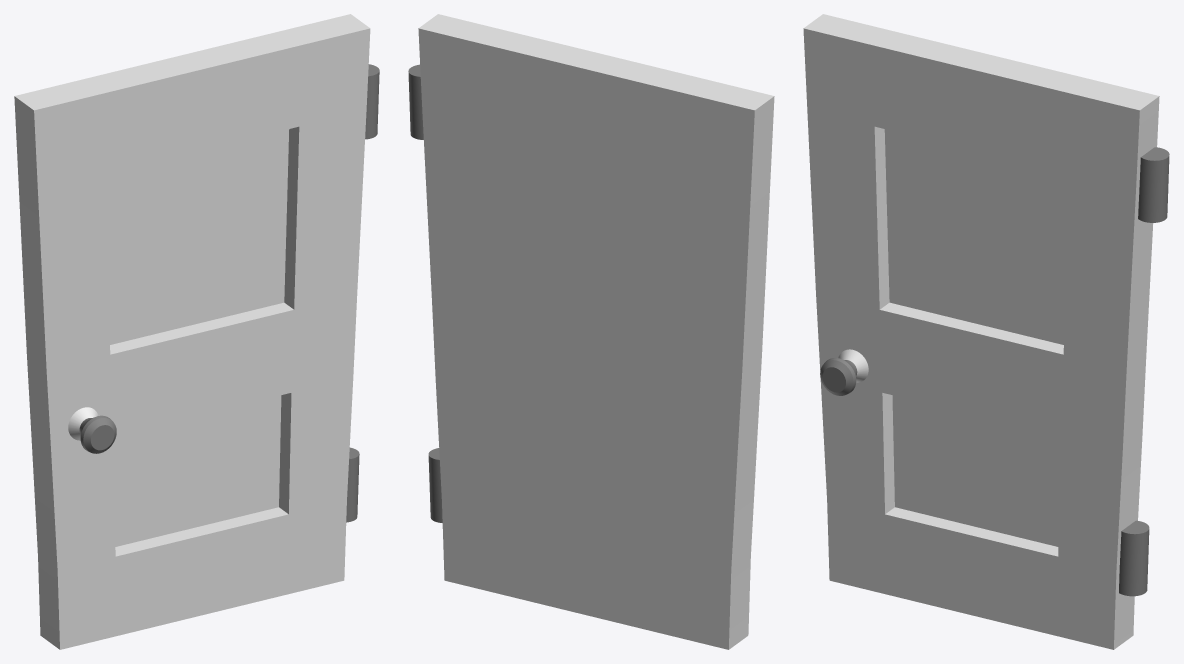
File: Door to Kitchen.fbx
3 views of the same model, side by side, from view 1: azimuth 30°, elevation 25°; view 2: azimuth 150°, elevation 25°; view 3: azimuth 330°, elevation 25° (orthographic).
Visible parts, largest first — view 1: Door to Kitchen; view 2: Door to Kitchen; view 3: Door to Kitchen.
Part boxes in pixels (x1,y1,x2,y2): Door to Kitchen: (14,14,379,649); Door to Kitchen: (408,14,774,649); Door to Kitchen: (803,14,1169,649).
Size of the model in its own units: 252 by 371 by 47.43.
